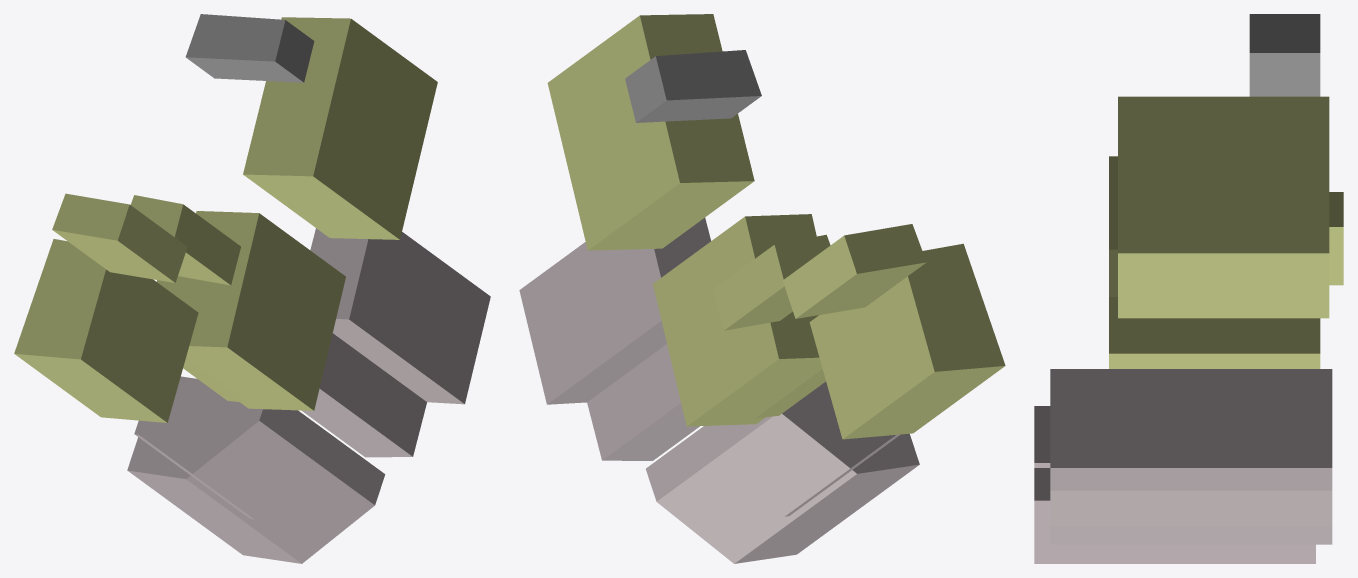
3 views of the same model, side by side, from view 1: azimuth 30°, elevation 25°; view 2: azimuth 150°, elevation 25°; view 3: azimuth 270°, elevation 25° (orthographic). The views are drawn at different scales.
Parts seen in each view (by area): view 1: 0_1_1_3_3_1_1_3_3_0; view 2: 0_1_1_3_3_1_1_3_3_0; view 3: 0_1_1_3_3_1_1_3_3_0.
Part boxes in pixels (left/top/right/bottom): 0_1_1_3_3_1_1_3_3_0: left=14, top=14, right=490, bottom=563; 0_1_1_3_3_1_1_3_3_0: left=519, top=14, right=1005, bottom=563; 0_1_1_3_3_1_1_3_3_0: left=1034, top=14, right=1343, bottom=563.
Size of the model in its own units: 21.89 by 26.29 by 13.18.
